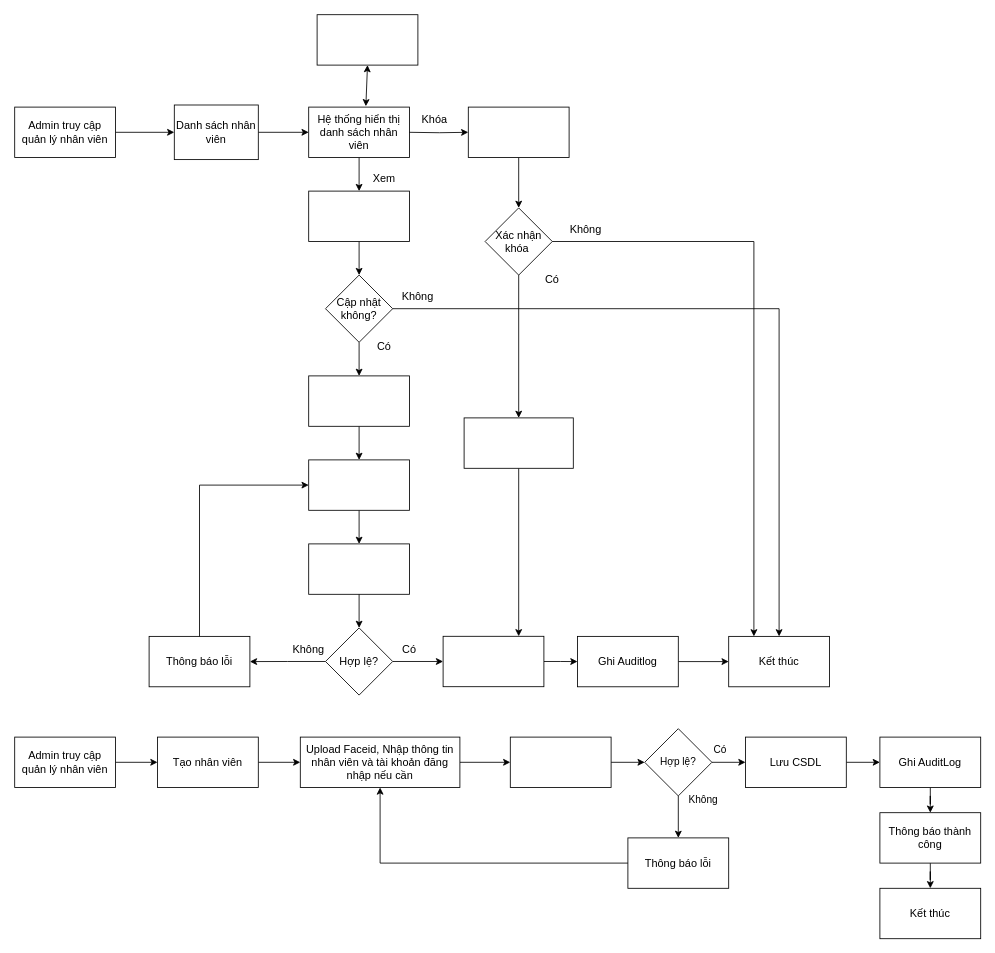
Image size: 995x953. Some labels were removed from this diagram. The shapes that lost their labels are listed below. From the top down, each one's box as (x1, y1, x2, y2) in pixels, then its label:
(316, 14, 418, 65): Admin lọc danh sách theo Tên/ Chi nhánh/ Trạng thái
(467, 106, 569, 158): Khóa nhân viên
(308, 190, 410, 242): Xem thông tin chi tiết/ lịch sử thao tác
(308, 375, 410, 426): Sửa thông tin/ Cập nhật FaceID
(463, 417, 573, 468): Cập nhật trạng thái nhân viên và lý do khóa tài khoản
(308, 459, 410, 510): Nhập thông tin
(308, 543, 410, 594): Hệ thống kiểm tra
(442, 635, 544, 687): Lưu hệ thống
(509, 736, 611, 788): Hệ thống kiểm tra dữ liệu
